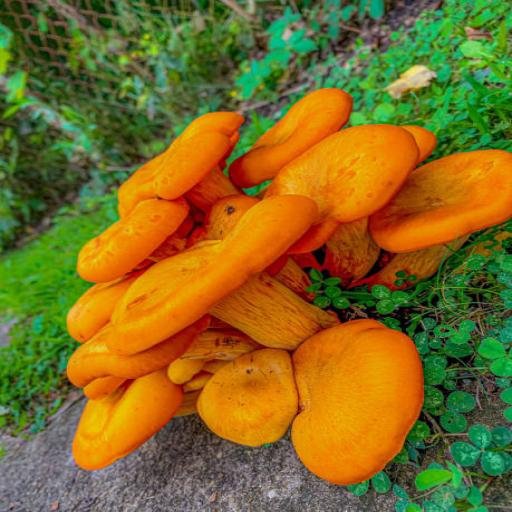Jack O Lantern Mushroom: (98, 193, 358, 356), (286, 322, 430, 489), (360, 151, 512, 288), (50, 363, 204, 475), (108, 107, 263, 203), (197, 341, 310, 460), (283, 123, 407, 214), (232, 82, 345, 176), (69, 194, 201, 273), (42, 274, 153, 348)
